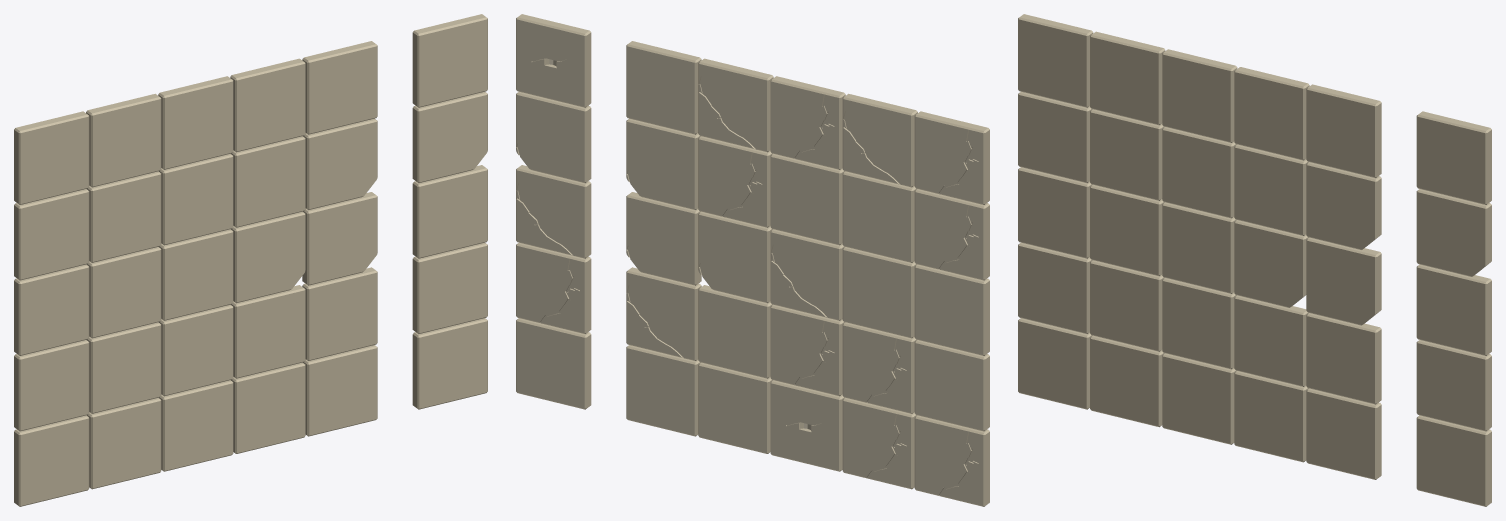
Rendered from brick_stone_cream_limestone.glb.
The picture shows the model from 3 angles, left to right: view 1: azimuth 30°, elevation 25°; view 2: azimuth 150°, elevation 25°; view 3: azimuth 330°, elevation 25°; orthographic projection.
Visible parts, largest first — view 1: Brick_E, Demo_Brick_B_05_01, Brick_C, Demo_Brick_A_02_01, Demo_Brick_A_03_01, Demo_Brick_B_01_01, Demo_Brick_B_04_01, Brick_B, Brick_A, Demo_Brick_C_05_02, Demo_Brick_B_05_03, Demo_Brick_C_05_04 (+18 smaller); view 2: Brick_E, Demo_Brick_B_05_01, Brick_C, Demo_Brick_A_02_01, Demo_Brick_A_03_01, Demo_Brick_B_01_01, Demo_Brick_B_04_01, Brick_B, Brick_A, Demo_Brick_C_05_02, Demo_Brick_B_05_03, Demo_Brick_C_05_04 (+18 smaller); view 3: Demo_Brick_A_05_05, Brick_E, Brick_C, Demo_Brick_C_02_05, Brick_B, Brick_A, Demo_Brick_A_01_05, Demo_Brick_C_05_04, Demo_Brick_C_05_02, Demo_Brick_B_05_03, Demo_Brick_B_05_01, Demo_Brick_D_03_05 (+18 smaller).
Boxes of the visible parts, x1=… form: Brick_E: x1=412, y1=14, x2=487, y2=107; Demo_Brick_B_05_01: x1=14, y1=111, x2=89, y2=204; Brick_C: x1=412, y1=165, x2=487, y2=258; Demo_Brick_A_02_01: x1=14, y1=340, x2=89, y2=431; Demo_Brick_A_03_01: x1=14, y1=264, x2=89, y2=355; Demo_Brick_B_01_01: x1=14, y1=415, x2=89, y2=506; Demo_Brick_B_04_01: x1=14, y1=189, x2=89, y2=280; Brick_B: x1=412, y1=242, x2=487, y2=333; Brick_A: x1=412, y1=318, x2=487, y2=409; Demo_Brick_C_05_02: x1=86, y1=93, x2=161, y2=187; Demo_Brick_B_05_03: x1=158, y1=76, x2=233, y2=169; Demo_Brick_C_05_04: x1=230, y1=58, x2=305, y2=152; Brick_E: x1=516, y1=14, x2=591, y2=107; Demo_Brick_B_05_01: x1=914, y1=111, x2=989, y2=204; Brick_C: x1=516, y1=165, x2=591, y2=258; Demo_Brick_A_02_01: x1=914, y1=340, x2=989, y2=431; Demo_Brick_A_03_01: x1=914, y1=264, x2=989, y2=355; Demo_Brick_B_01_01: x1=914, y1=415, x2=989, y2=506; Demo_Brick_B_04_01: x1=914, y1=189, x2=989, y2=280; Brick_B: x1=516, y1=242, x2=591, y2=333; Brick_A: x1=516, y1=318, x2=591, y2=409; Demo_Brick_C_05_02: x1=842, y1=93, x2=917, y2=187; Demo_Brick_B_05_03: x1=770, y1=76, x2=845, y2=169; Demo_Brick_C_05_04: x1=698, y1=58, x2=773, y2=152; Demo_Brick_A_05_05: x1=1306, y1=84, x2=1381, y2=177; Brick_E: x1=1416, y1=111, x2=1491, y2=204; Brick_C: x1=1416, y1=264, x2=1491, y2=355; Demo_Brick_C_02_05: x1=1306, y1=313, x2=1381, y2=404; Brick_B: x1=1416, y1=340, x2=1491, y2=431; Brick_A: x1=1416, y1=415, x2=1491, y2=506; Demo_Brick_A_01_05: x1=1306, y1=388, x2=1381, y2=479; Demo_Brick_C_05_04: x1=1234, y1=67, x2=1309, y2=160; Demo_Brick_C_05_02: x1=1090, y1=31, x2=1165, y2=125; Demo_Brick_B_05_03: x1=1162, y1=49, x2=1237, y2=142; Demo_Brick_B_05_01: x1=1018, y1=14, x2=1093, y2=107; Demo_Brick_D_03_05: x1=1306, y1=237, x2=1381, y2=325.
Size of the model in its own units: 6.64 by 5.08 by 0.1501.
